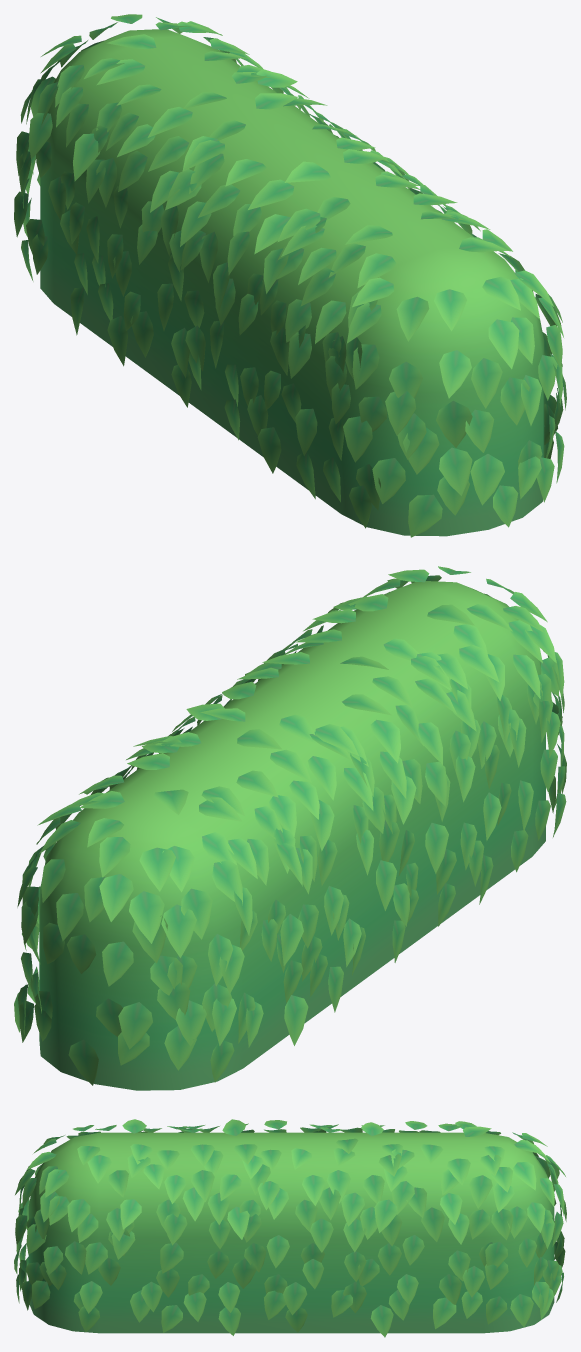
Rendered from Hedge.fbx.
The picture shows the model from 3 angles, top to bottom: view 1: azimuth 30°, elevation 25°; view 2: azimuth 150°, elevation 25°; view 3: azimuth 270°, elevation 25°; orthographic projection. The views are drawn at different scales.
Visible parts, largest first — view 1: Hedge; view 2: Hedge; view 3: Hedge.
Boxes of the visible parts, x1,y1,x2,y2 form: Hedge: (14, 14, 566, 537); Hedge: (14, 566, 566, 1090); Hedge: (14, 1119, 566, 1337).
Bounding box in the file's own units: 101 × 108 × 315.
